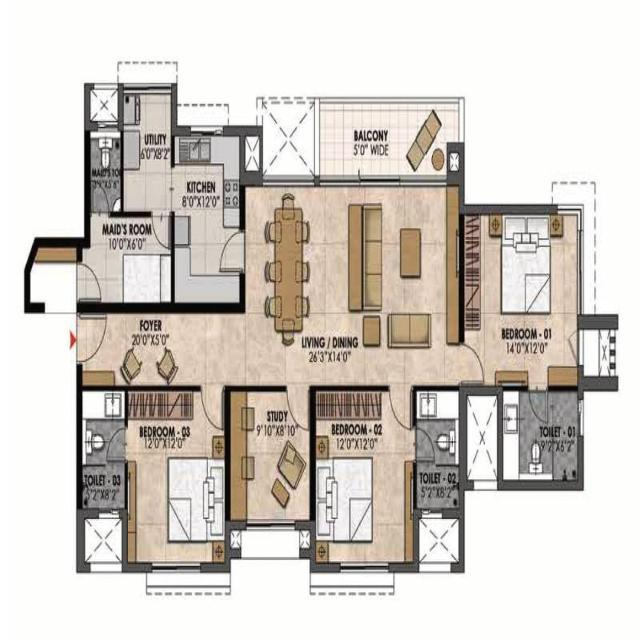Balcony-Sitout: (316, 99, 465, 182)
Bedroom: (465, 207, 582, 379), (310, 386, 416, 568), (128, 389, 228, 569), (84, 211, 174, 305)
Dining: (264, 192, 310, 346)
Enterance-Foyer: (68, 312, 242, 388)
Kitchen: (177, 132, 242, 304)
Living: (329, 185, 459, 389)
Toilet: (498, 390, 584, 489), (76, 389, 126, 508), (416, 388, 461, 515), (84, 128, 120, 209)
Utility: (122, 87, 175, 212)
